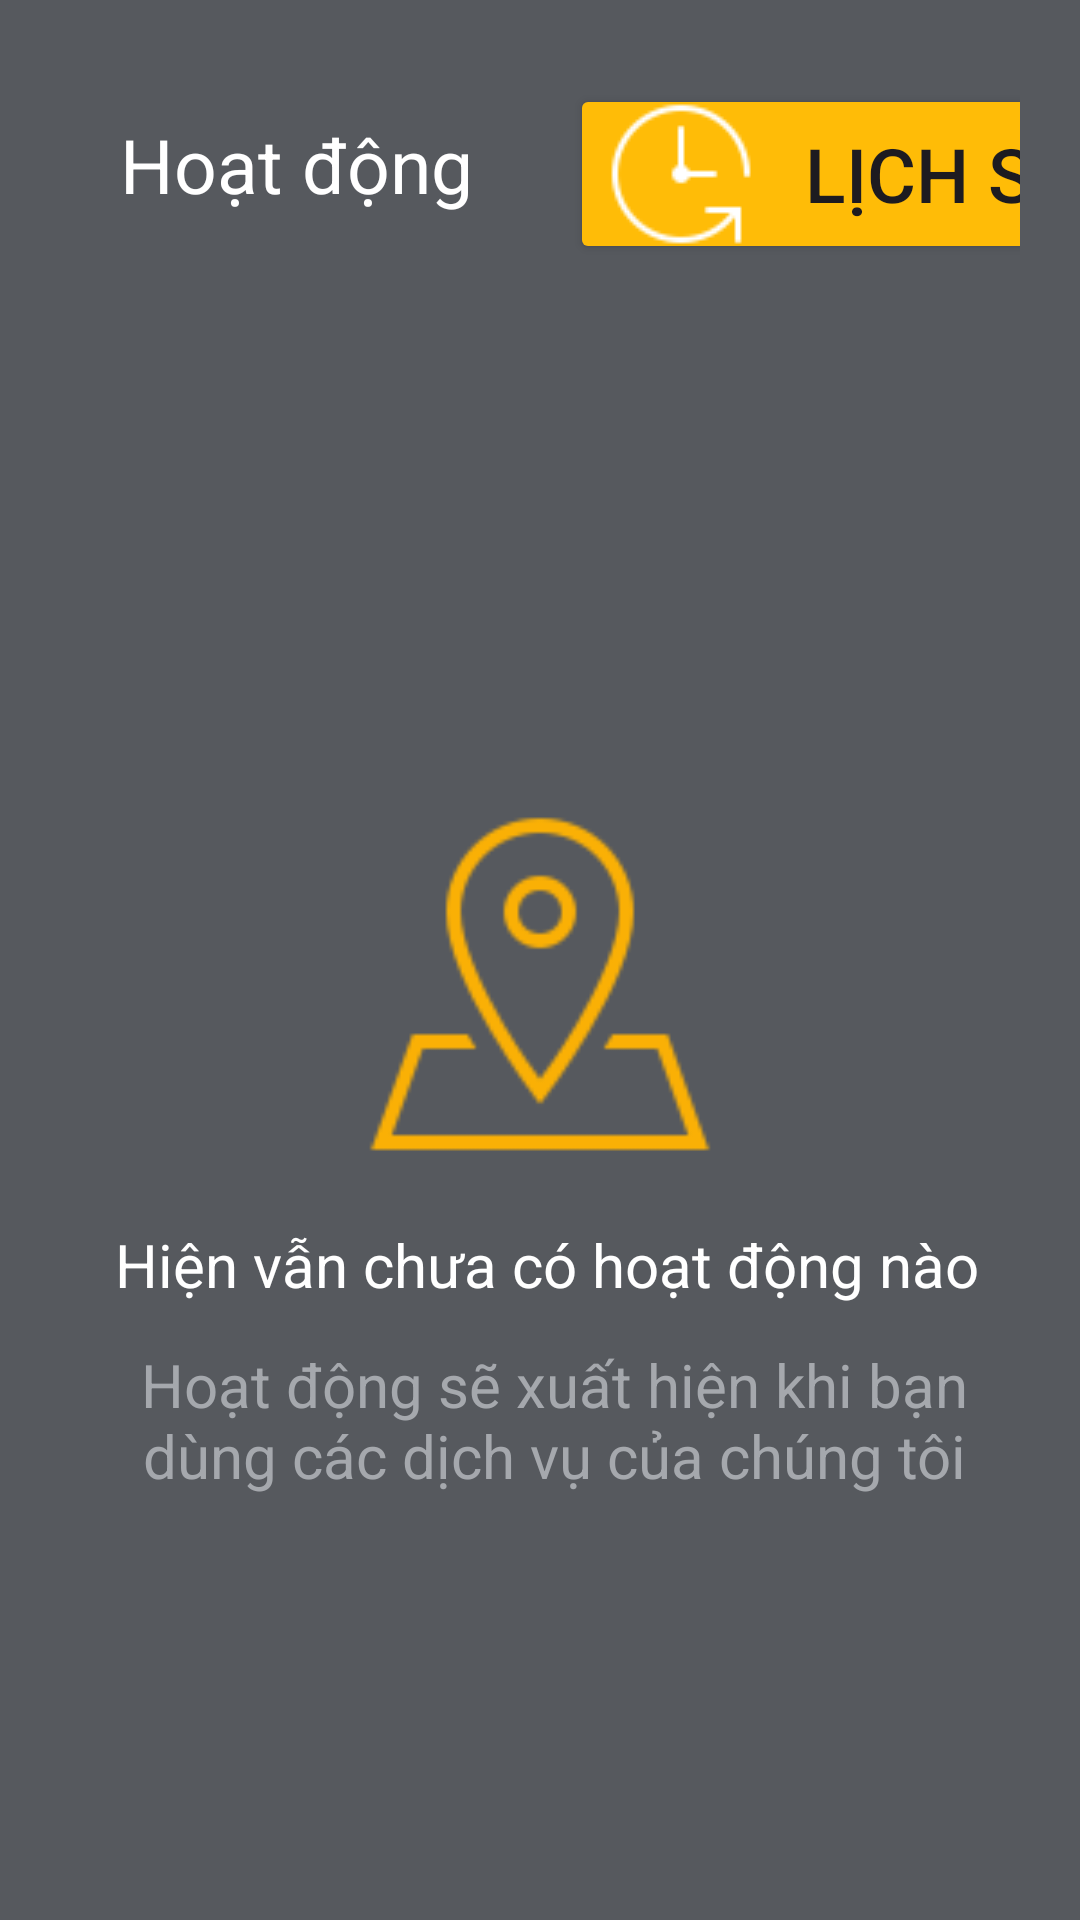

Icon bounding boxes for this 1080px×1920px phone screenshot, format (left=x1, top=y1, right=x2, bottom=y2):
local: (left=370, top=817, right=710, bottom=1151)
